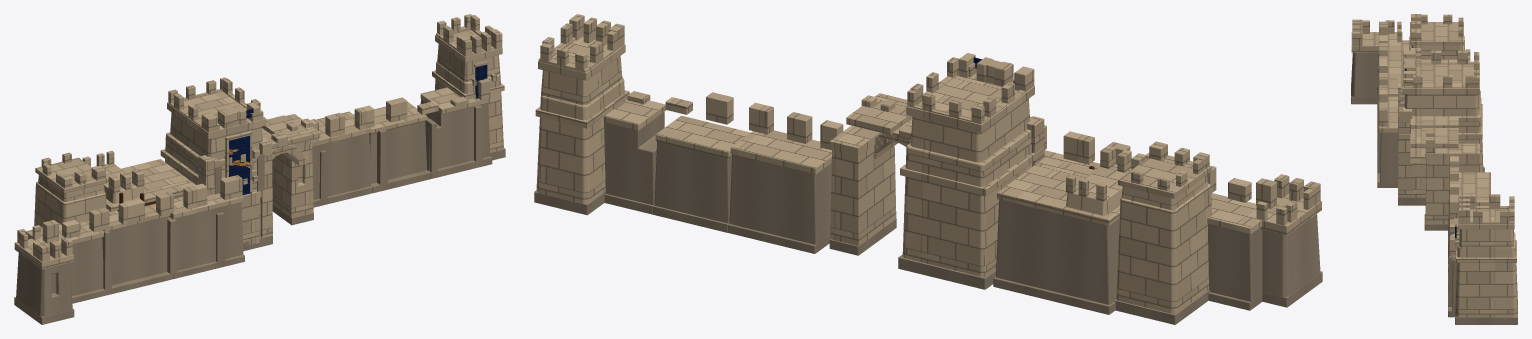
File: BastionFamilyV1.glb
3 views of the same model, side by side, from view 1: azimuth 30°, elevation 25°; view 2: azimuth 150°, elevation 25°; view 3: azimuth 270°, elevation 25° (orthographic). The views are drawn at different scales.
Parts seen in each view (by area): view 1: BastionCurtainWest, BastionCurtainEast, BastionKeep, BastionEastTower, BastionWestTower, BastionFarWestBlock, BastionLeftWing, BastionRightGatePillar, BastionGateLintel; view 2: BastionCurtainEast, BastionKeep, BastionLeftWing, BastionFarWestBlock, BastionEastTower, BastionCurtainWest, BastionRightGatePillar, BastionWestTower, BastionGateLintel; view 3: BastionEastTower, BastionKeep, BastionCurtainWest, BastionRightGatePillar, BastionWestTower, BastionCurtainEast, BastionFarWestBlock, BastionGateLintel, BastionLeftWing.
Part boxes in pixels (bbox=[...]): BastionCurtainWest: bbox=[25, 175, 244, 303]; BastionCurtainEast: bbox=[310, 78, 492, 207]; BastionKeep: bbox=[160, 77, 272, 251]; BastionEastTower: bbox=[432, 14, 505, 160]; BastionWestTower: bbox=[14, 225, 74, 324]; BastionFarWestBlock: bbox=[34, 152, 107, 227]; BastionLeftWing: bbox=[82, 151, 195, 211]; BastionRightGatePillar: bbox=[266, 115, 313, 225]; BastionGateLintel: bbox=[262, 114, 320, 165]; BastionCurtainEast: bbox=[603, 91, 843, 253]; BastionKeep: bbox=[898, 53, 1044, 289]; BastionLeftWing: bbox=[993, 145, 1146, 314]; BastionFarWestBlock: bbox=[1114, 141, 1211, 324]; BastionEastTower: bbox=[534, 14, 629, 215]; BastionCurtainWest: bbox=[1044, 125, 1276, 310]; BastionRightGatePillar: bbox=[829, 95, 896, 255]; BastionWestTower: bbox=[1256, 174, 1322, 307]; BastionGateLintel: bbox=[846, 93, 912, 159]; BastionEastTower: bbox=[1455, 193, 1517, 324]; BastionKeep: bbox=[1398, 50, 1484, 205]; BastionCurtainWest: bbox=[1377, 21, 1409, 187]; BastionRightGatePillar: bbox=[1424, 130, 1479, 230]; BastionWestTower: bbox=[1351, 19, 1402, 104]; BastionCurtainEast: bbox=[1448, 156, 1490, 317]; BastionFarWestBlock: bbox=[1409, 14, 1465, 59]; BastionGateLintel: bbox=[1409, 117, 1458, 163]; BastionLeftWing: bbox=[1410, 48, 1470, 61].
Size of the model in its own units: 30.12 by 7.6 by 9.02.
9 materials, 8 textured.
